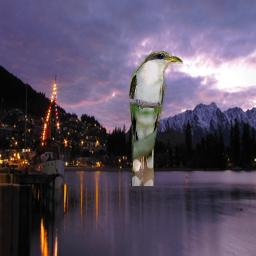Cuckoo: (128, 50, 183, 186)
